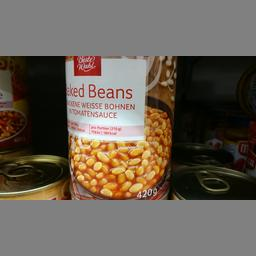beans: (64, 54, 176, 199)
